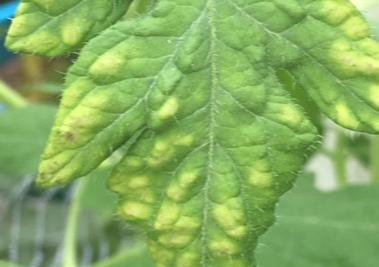Tomato leaf bacterial spot: (10, 0, 379, 267)
